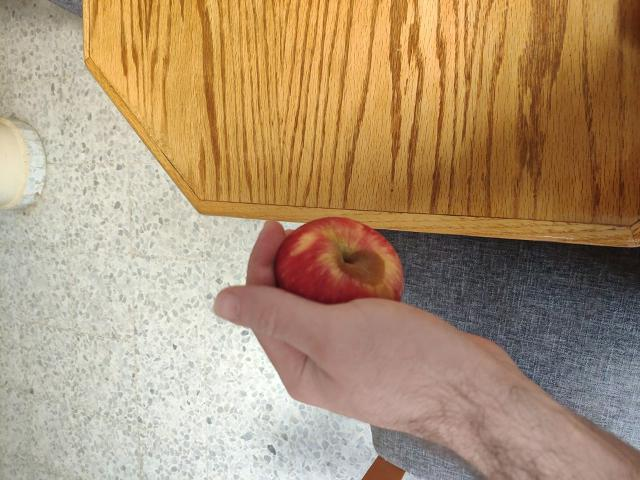apple: (276, 217, 406, 339)
